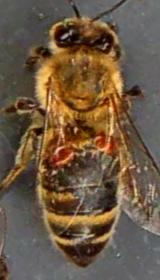varroa_mite: (92, 131, 122, 161), (46, 144, 76, 170)
